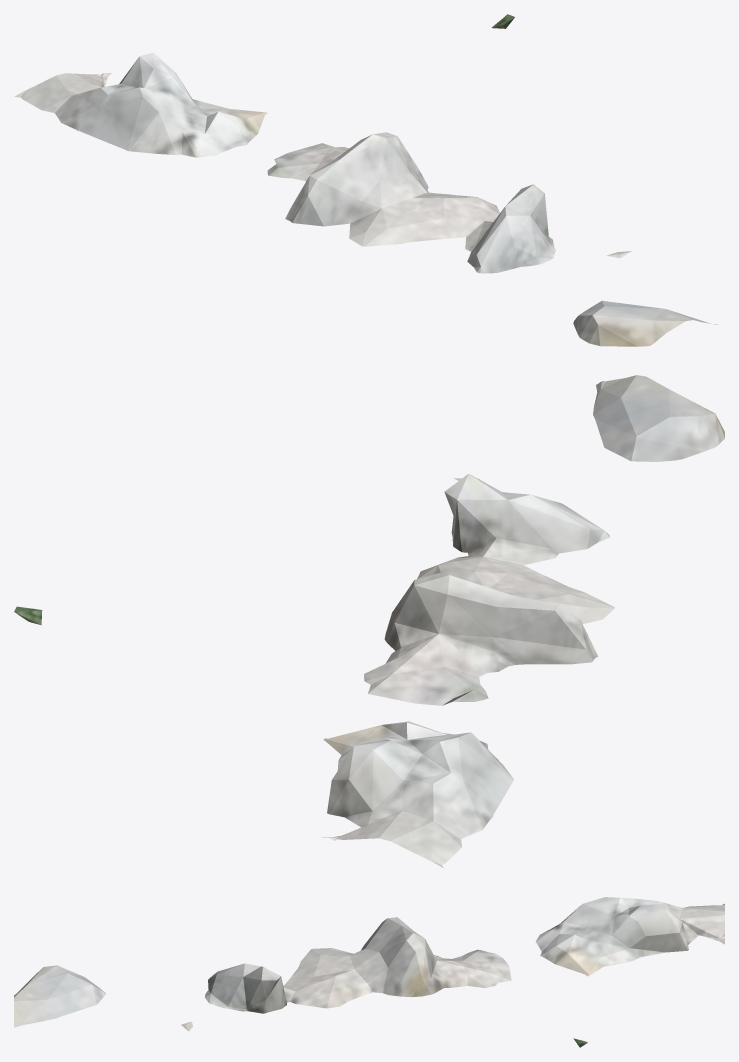
3 views of the same model, one above another, from view 1: azimuth 30°, elevation 25°; view 2: azimuth 150°, elevation 25°; view 3: azimuth 270°, elevation 25° (orthographic). The views are drawn at different scales.
Size of the model in its own units: 1.71 by 0.2045 by 2.95.
1 material, 1 textured.
